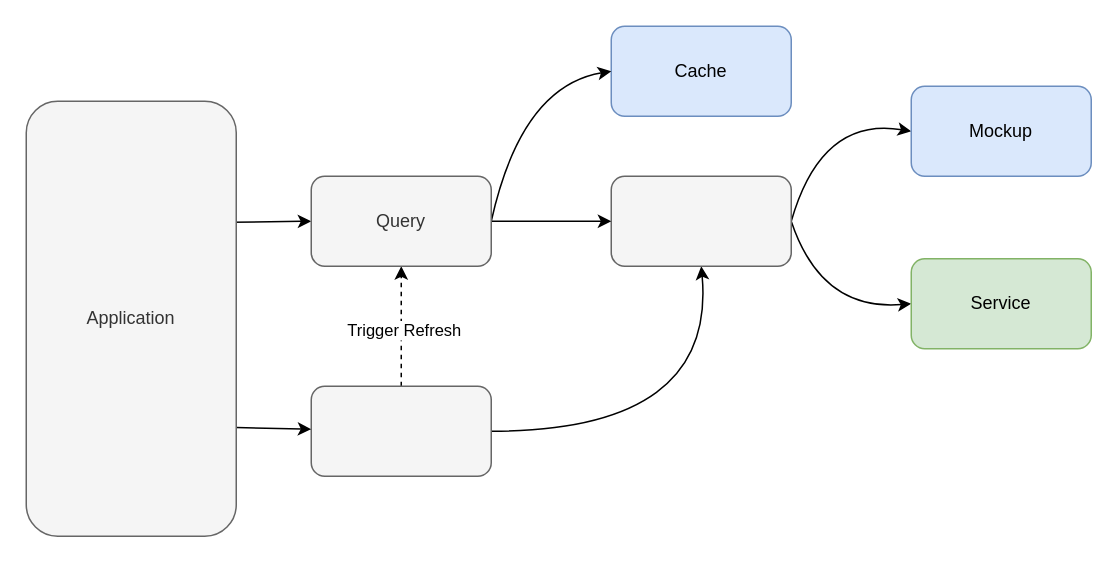
The diagram is 1118 pixels wide and 563 high, and some of its shapes have lost their labels. Here are the shapes that lost their labels. From the top down, the centre of each, then its label:
At point (700, 220): "Fetcher".
At point (400, 430): "Mutation".
